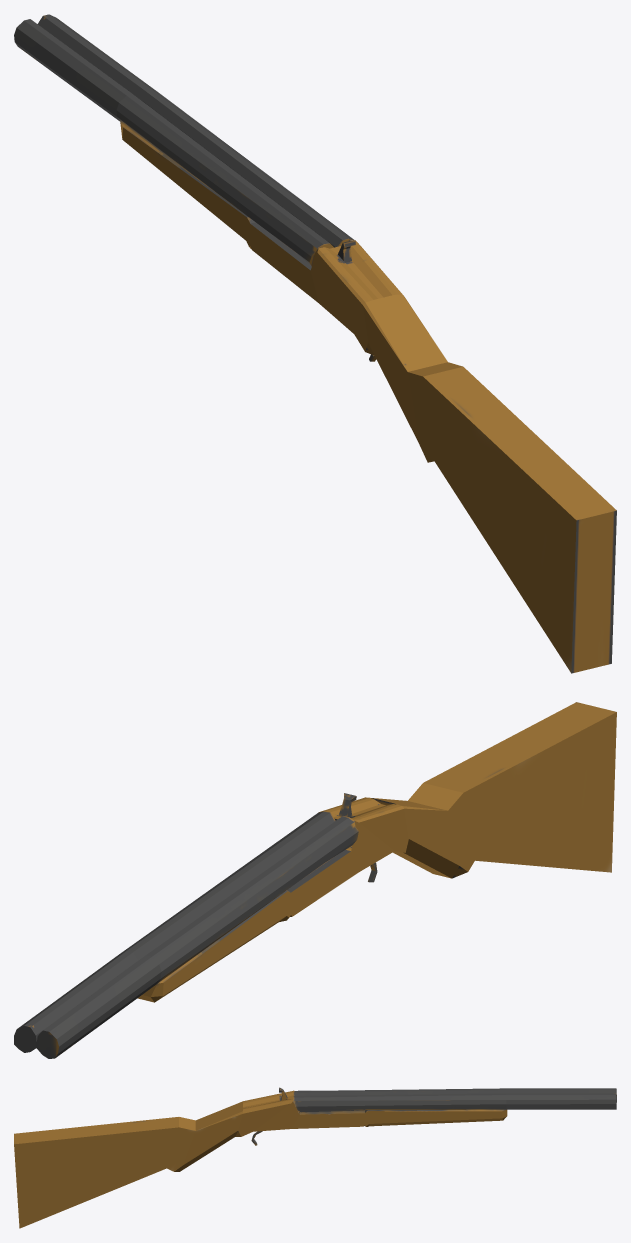
Rendered from shotgun.fbx.
3 renders of one model, top to bottom at view 1: azimuth 30°, elevation 25°; view 2: azimuth 150°, elevation 25°; view 3: azimuth 270°, elevation 25°, orthographic. The views are drawn at different scales.
Visible parts, largest first — view 1: Shotgun; view 2: Shotgun; view 3: Shotgun.
Boxes of the visible parts, bbox=[...] form: Shotgun: bbox=[14, 14, 616, 673]; Shotgun: bbox=[14, 702, 616, 1058]; Shotgun: bbox=[14, 1087, 616, 1228].
Bounding box in the file's own units: 23.5 × 119 × 482.
1 material, 1 textured.
